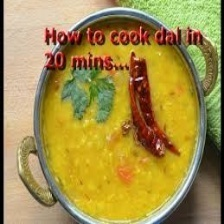dal: (39, 72, 199, 221)
